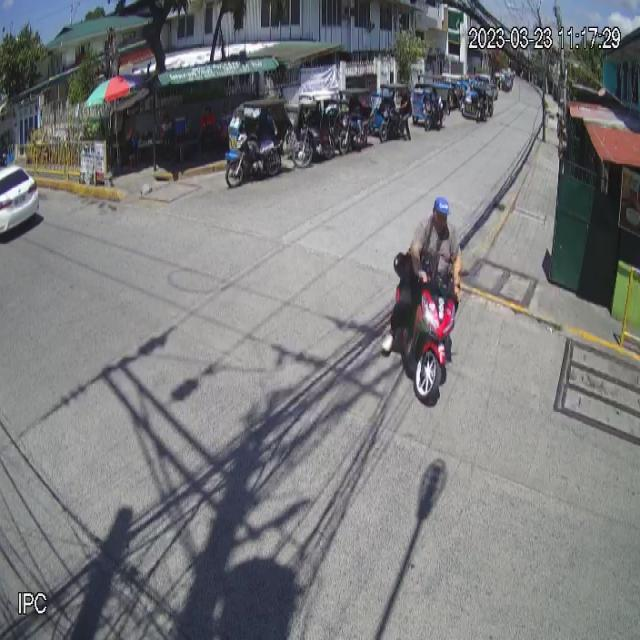Car: (0, 163, 41, 237)
Motorcycle: (394, 249, 470, 408)
